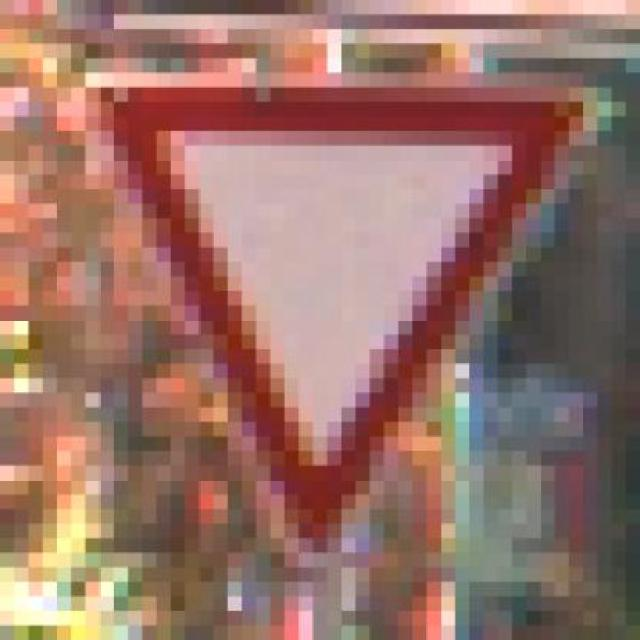Give Way: (57, 43, 583, 568)
